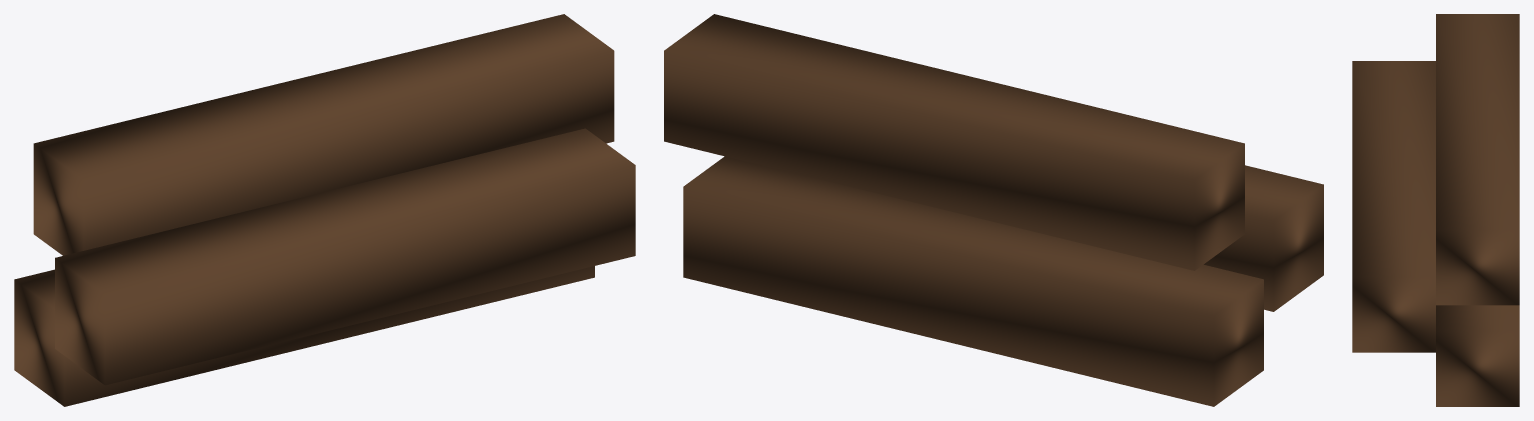
The model's file is PROP_FIREWOOD_STACK.obj.
The picture shows the model from 3 angles, left to right: view 1: azimuth 30°, elevation 25°; view 2: azimuth 150°, elevation 25°; view 3: azimuth 270°, elevation 25°; orthographic projection. The views are drawn at different scales.
Parts seen in each view (by area): view 1: PROP_FIREWOOD_STACK; view 2: PROP_FIREWOOD_STACK; view 3: PROP_FIREWOOD_STACK.
Part boxes in pixels (<box>): PROP_FIREWOOD_STACK: <box>14,14,635,406</box>; PROP_FIREWOOD_STACK: <box>664,14,1323,406</box>; PROP_FIREWOOD_STACK: <box>1352,14,1519,406</box>.
Bounding box in the file's own units: 0.58 × 0.22 × 0.18.
